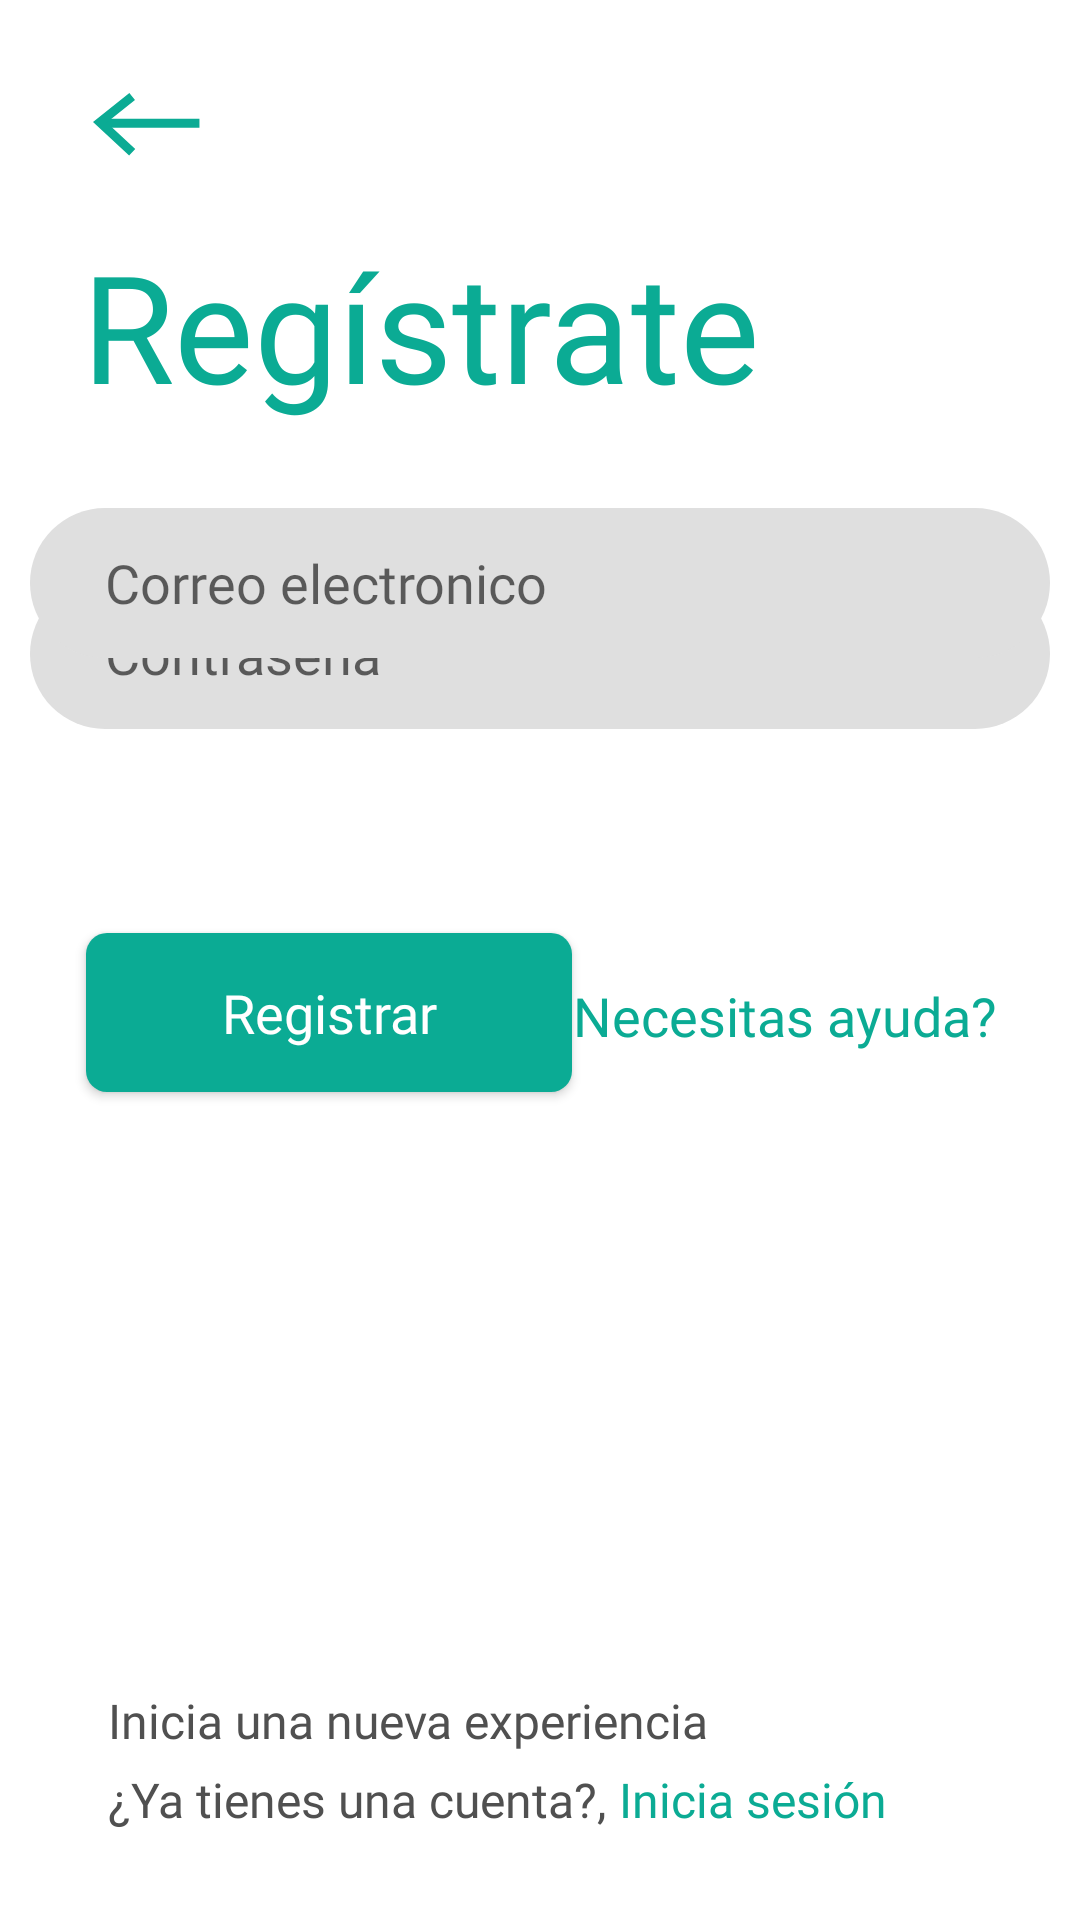

Icons on this 1080px x 1920px Android screen, each with its box as (x1, y1, x2, y2):
arrow: (93, 93, 200, 156)
